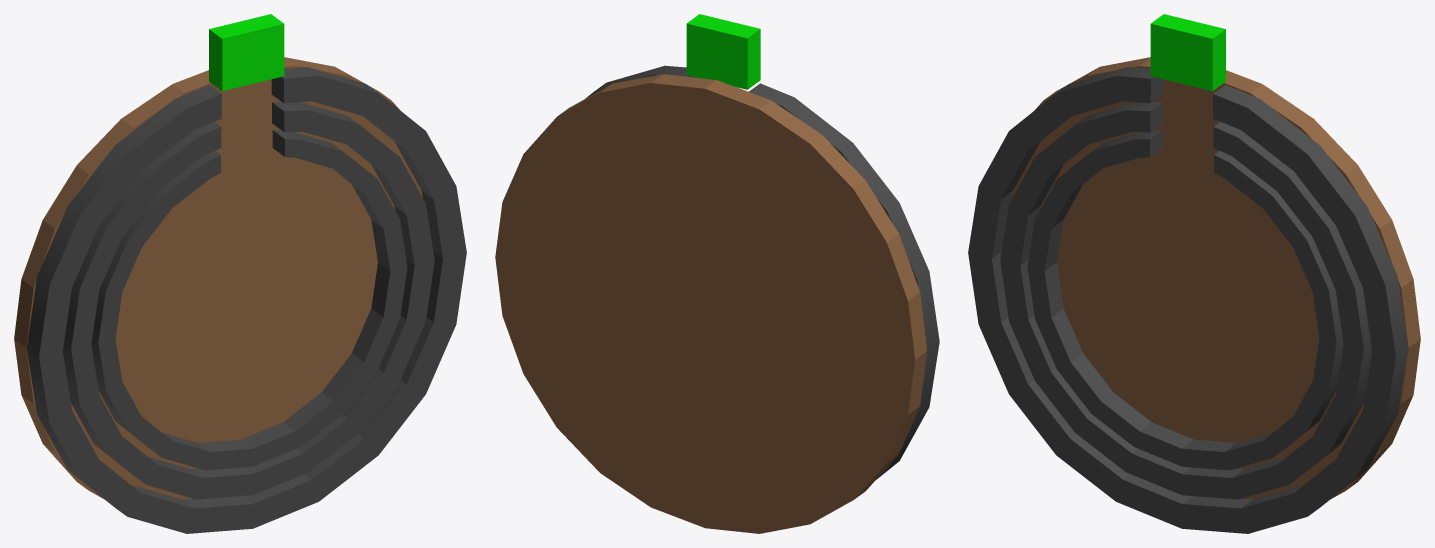
3 views of the same model, side by side, from view 1: azimuth 30°, elevation 25°; view 2: azimuth 150°, elevation 25°; view 3: azimuth 330°, elevation 25° (orthographic).
Parts seen in each view (by area): view 1: LockBG, oRing, mRing, iRing, slider; view 2: LockBG, oRing, slider; view 3: LockBG, oRing, mRing, iRing, slider.
Part boxes in pixels (x1,y1,x2,y2): LockBG: [14, 57, 422, 499]; oRing: [26, 67, 466, 533]; mRing: [62, 102, 434, 499]; iRing: [91, 130, 407, 470]; slider: [209, 14, 284, 91]; LockBG: [495, 74, 927, 533]; oRing: [585, 65, 939, 480]; slider: [686, 14, 760, 89]; LockBG: [1012, 57, 1420, 499]; oRing: [968, 67, 1408, 533]; mRing: [1000, 102, 1372, 499]; iRing: [1027, 130, 1343, 470]; slider: [1150, 14, 1225, 91].
Size of the model in its own units: 2.56 by 2.85 by 0.2625.
